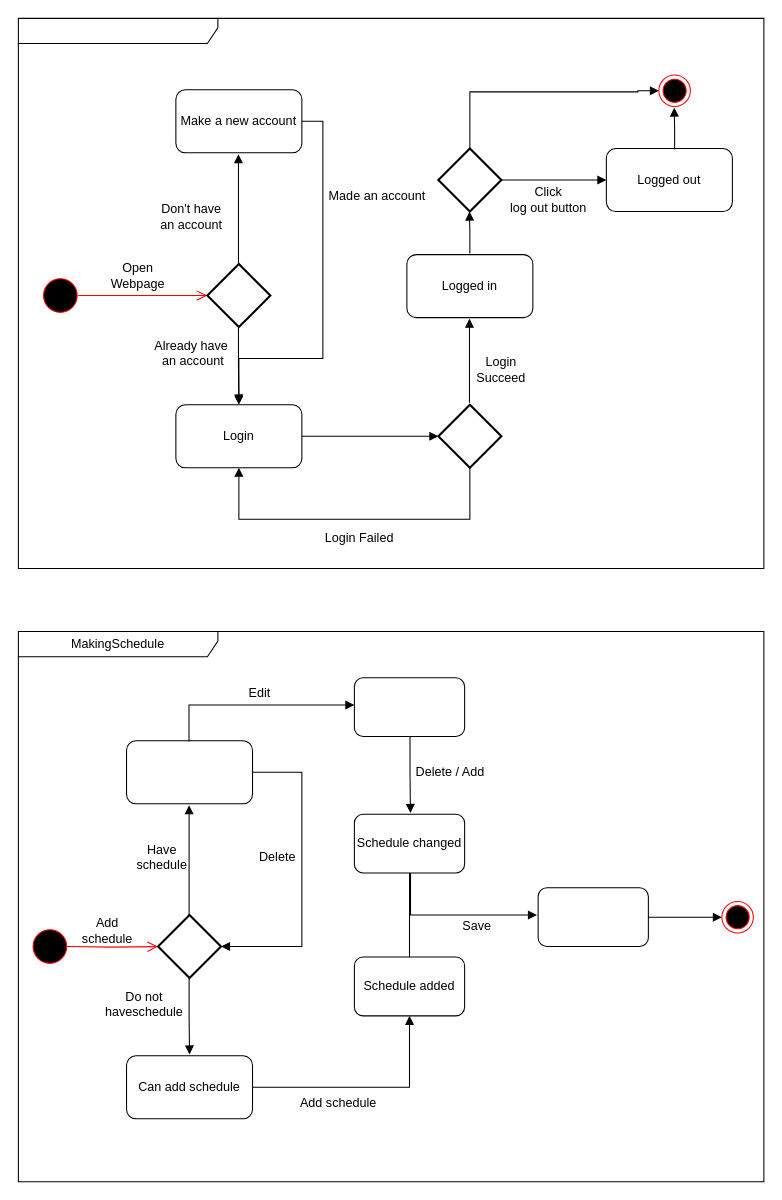
The diagram is 782 pixels wide and 1200 high, and some of its shapes have lost their labels. Here are the shapes that lost their labels. From the top down, the box of each, then its label:
(17, 17, 764, 569): processingLoginLogout
(353, 677, 465, 737): Edit mode
(125, 740, 253, 804): Cannot add schedule
(537, 887, 648, 947): Schedule saved
